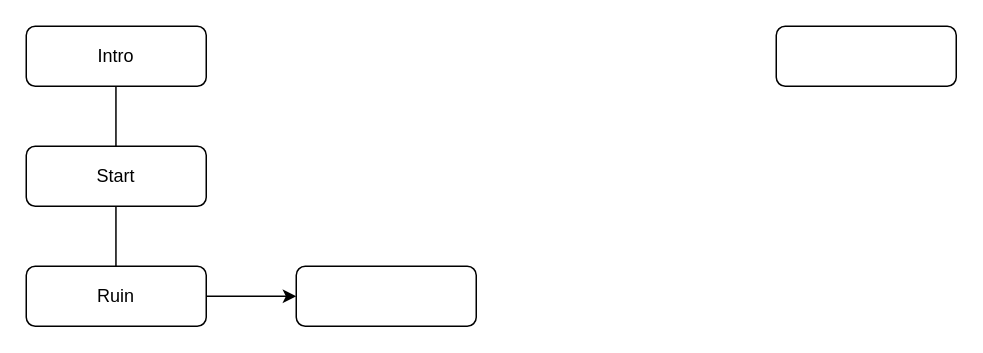
This 983x353 diagram has some shape labels left out. Each missing label, with the centre of its shape:
Main Game: the point at 865,55
Monster (Battle): the point at 385,295
